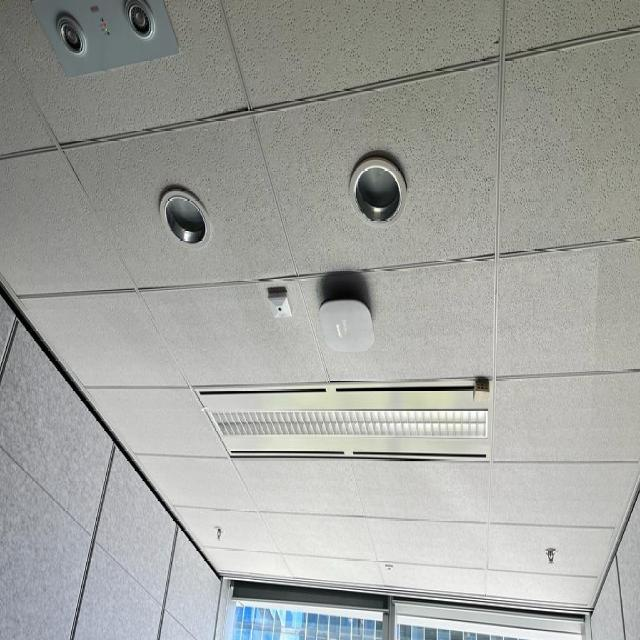Light-Closed: (195, 377, 494, 460), (348, 149, 410, 225), (157, 179, 217, 247), (382, 561, 394, 578)
